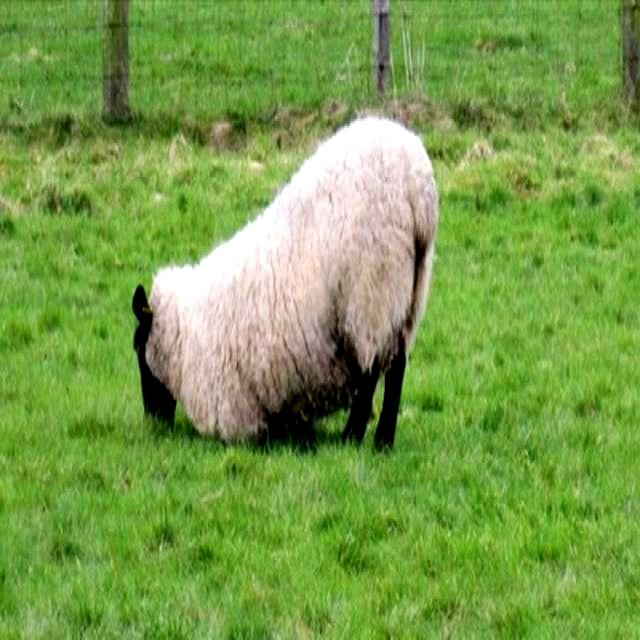sheep: (132, 120, 438, 447)
